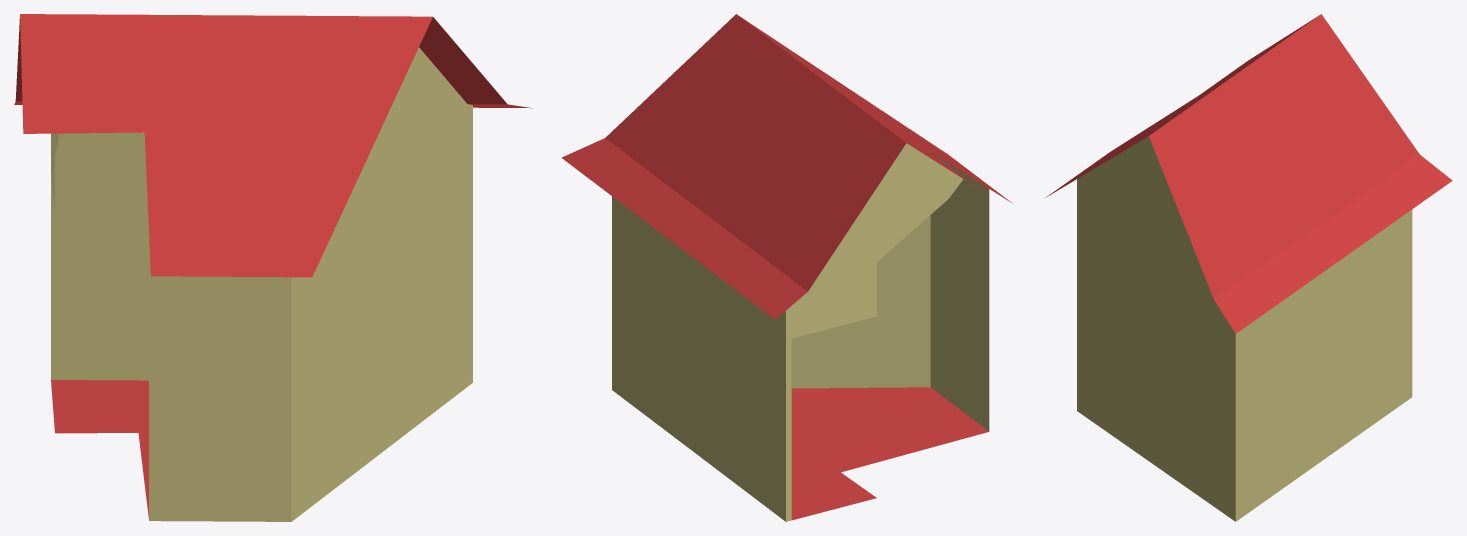
3 views of the same model, side by side, from view 1: azimuth 30°, elevation 25°; view 2: azimuth 150°, elevation 25°; view 3: azimuth 270°, elevation 25° (orthographic). The views are drawn at different scales.
Size of the model in its own units: 16.3 by 14.14 by 13.28.
